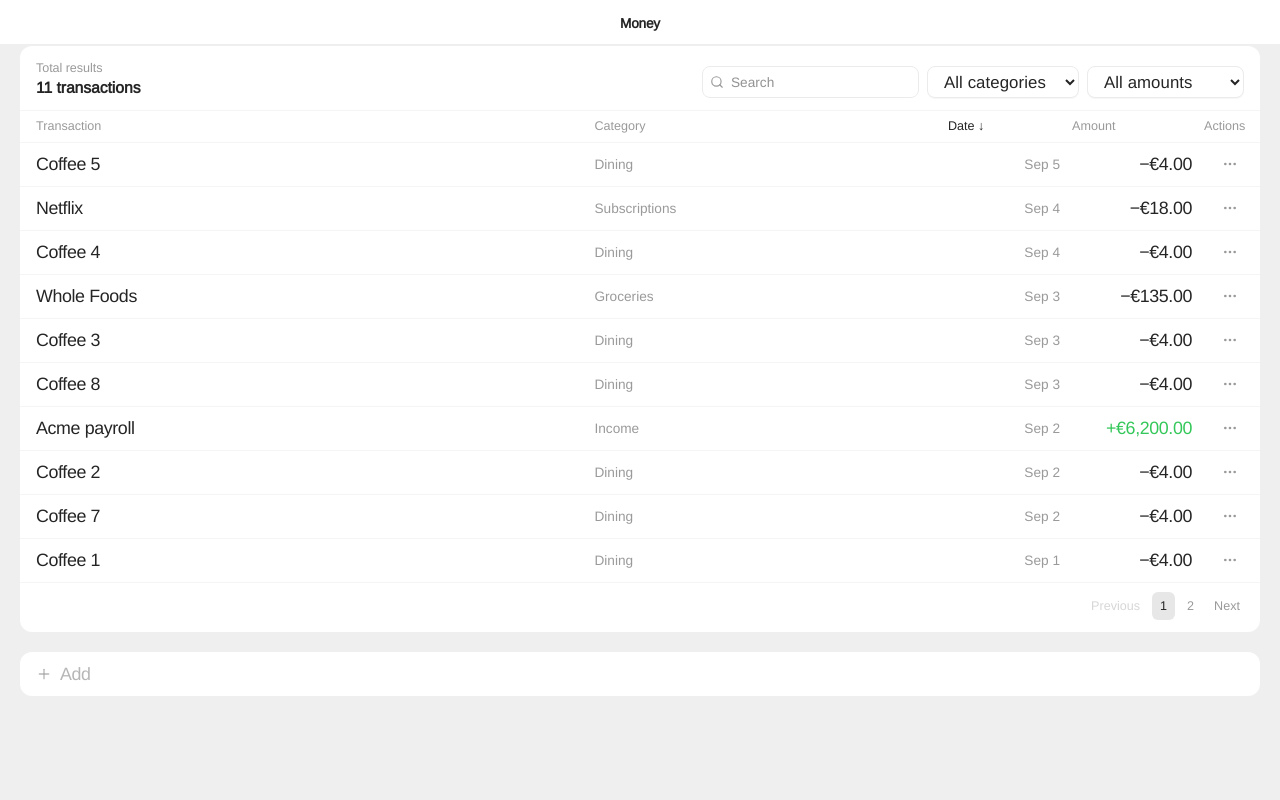
Test: FinancePage › renders a finance dashboard with KPIs, charts, and a filterable table
(page scrolled)
Check: the text "Whole Foods" is shown, box top-left (36, 285), bottom-right (137, 307)
Check: the text "11 transactions" is shown, box top-left (36, 78), bottom-right (140, 98)
Click the button "Next" at coordinates (1227, 606), box top-left (1206, 592), bottom-right (1248, 620)
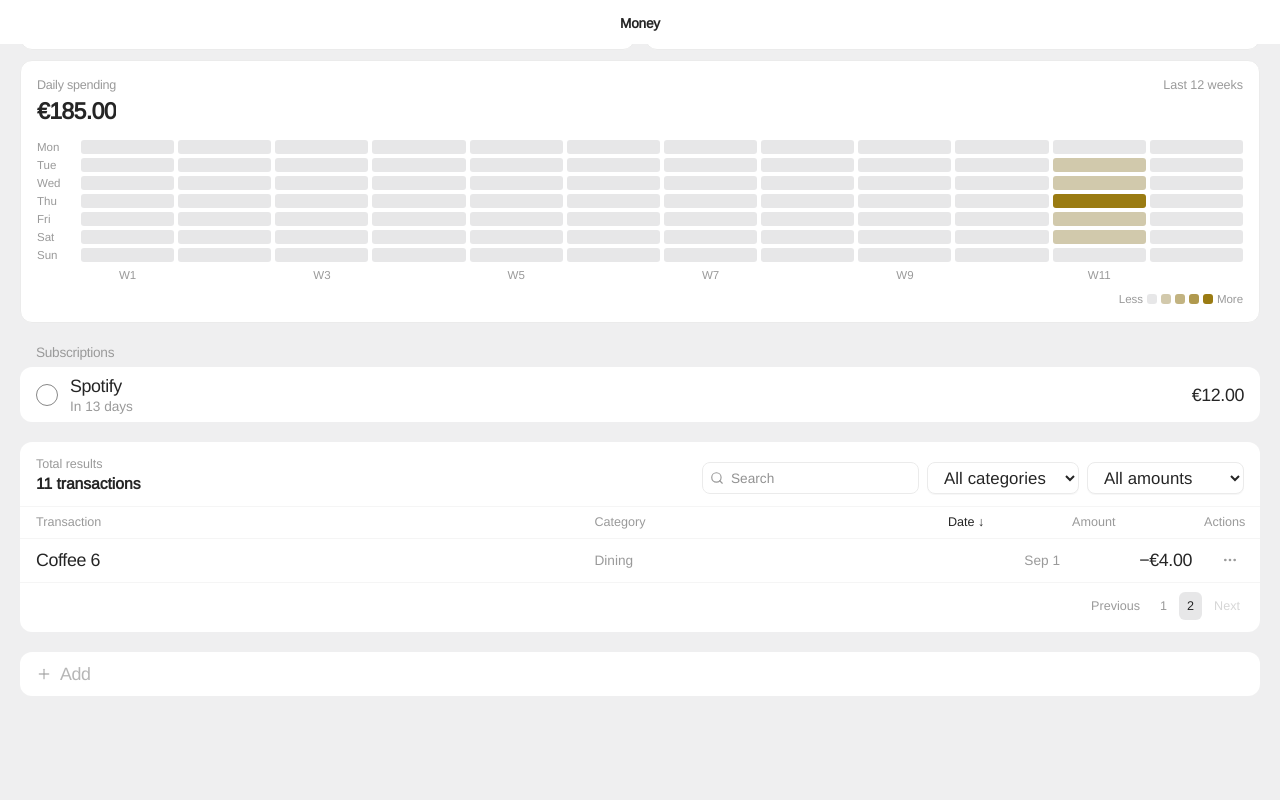
Check: the text "Coffee 6" is shown, box top-left (36, 549), bottom-right (100, 571)
Check: the text "Whole Foods" is gone
